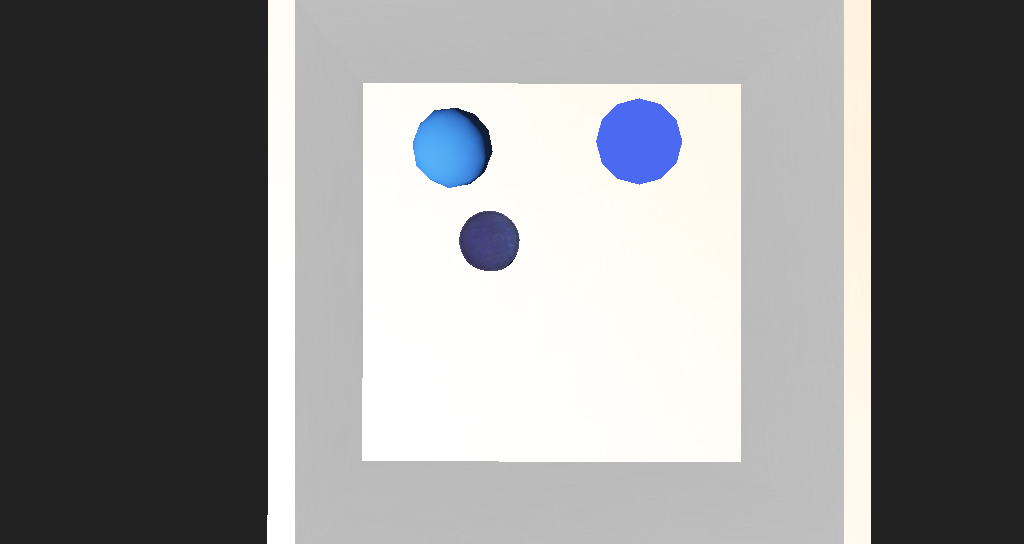cone: (435, 236, 482, 270)
cylinder: (532, 177, 600, 224)
sphere: (391, 179, 458, 222)
